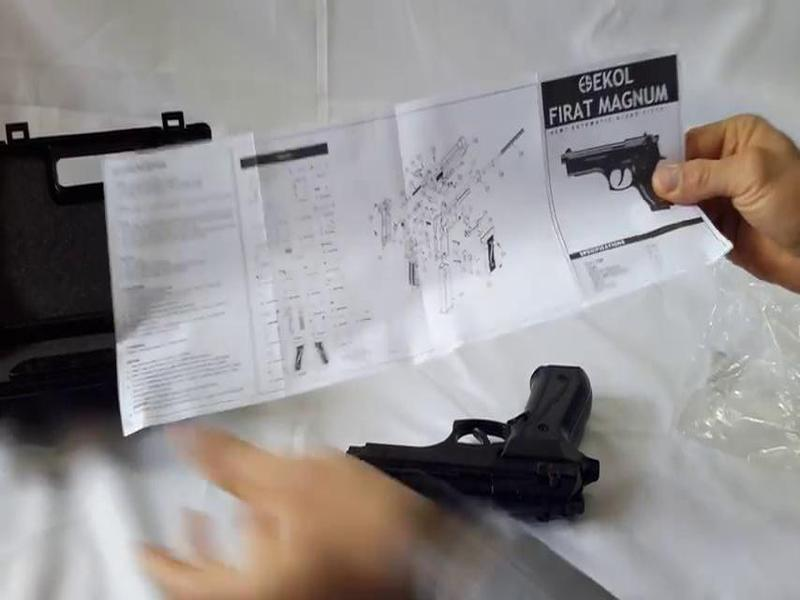Pistola: (317, 338, 638, 555)
